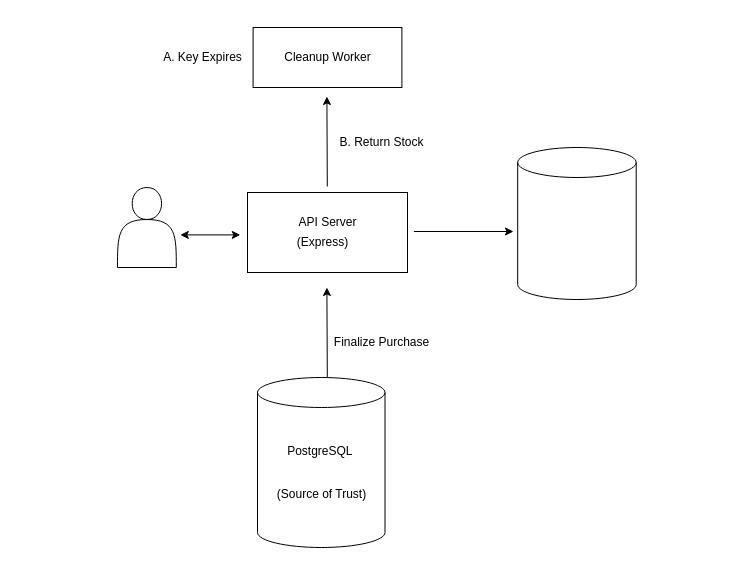
Some shapes in this 754 by 565 pixel diagram are drawn without their labels. Each missing label, with the box of its shape:
Redis (Fast Gatekeeper): (517, 146, 636, 300)
User: (116, 186, 176, 268)
